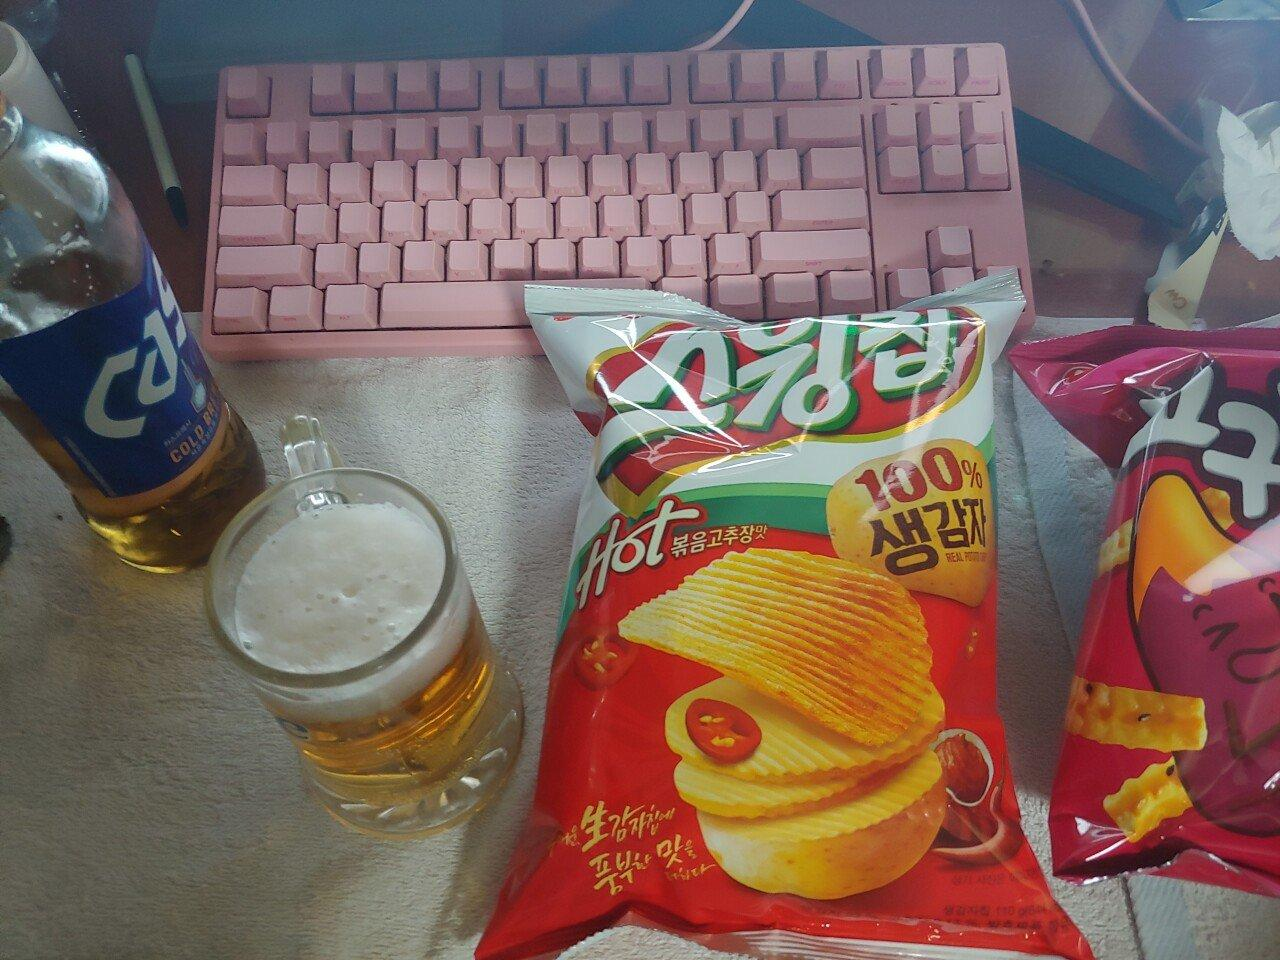snack: (473, 263, 1097, 960)
